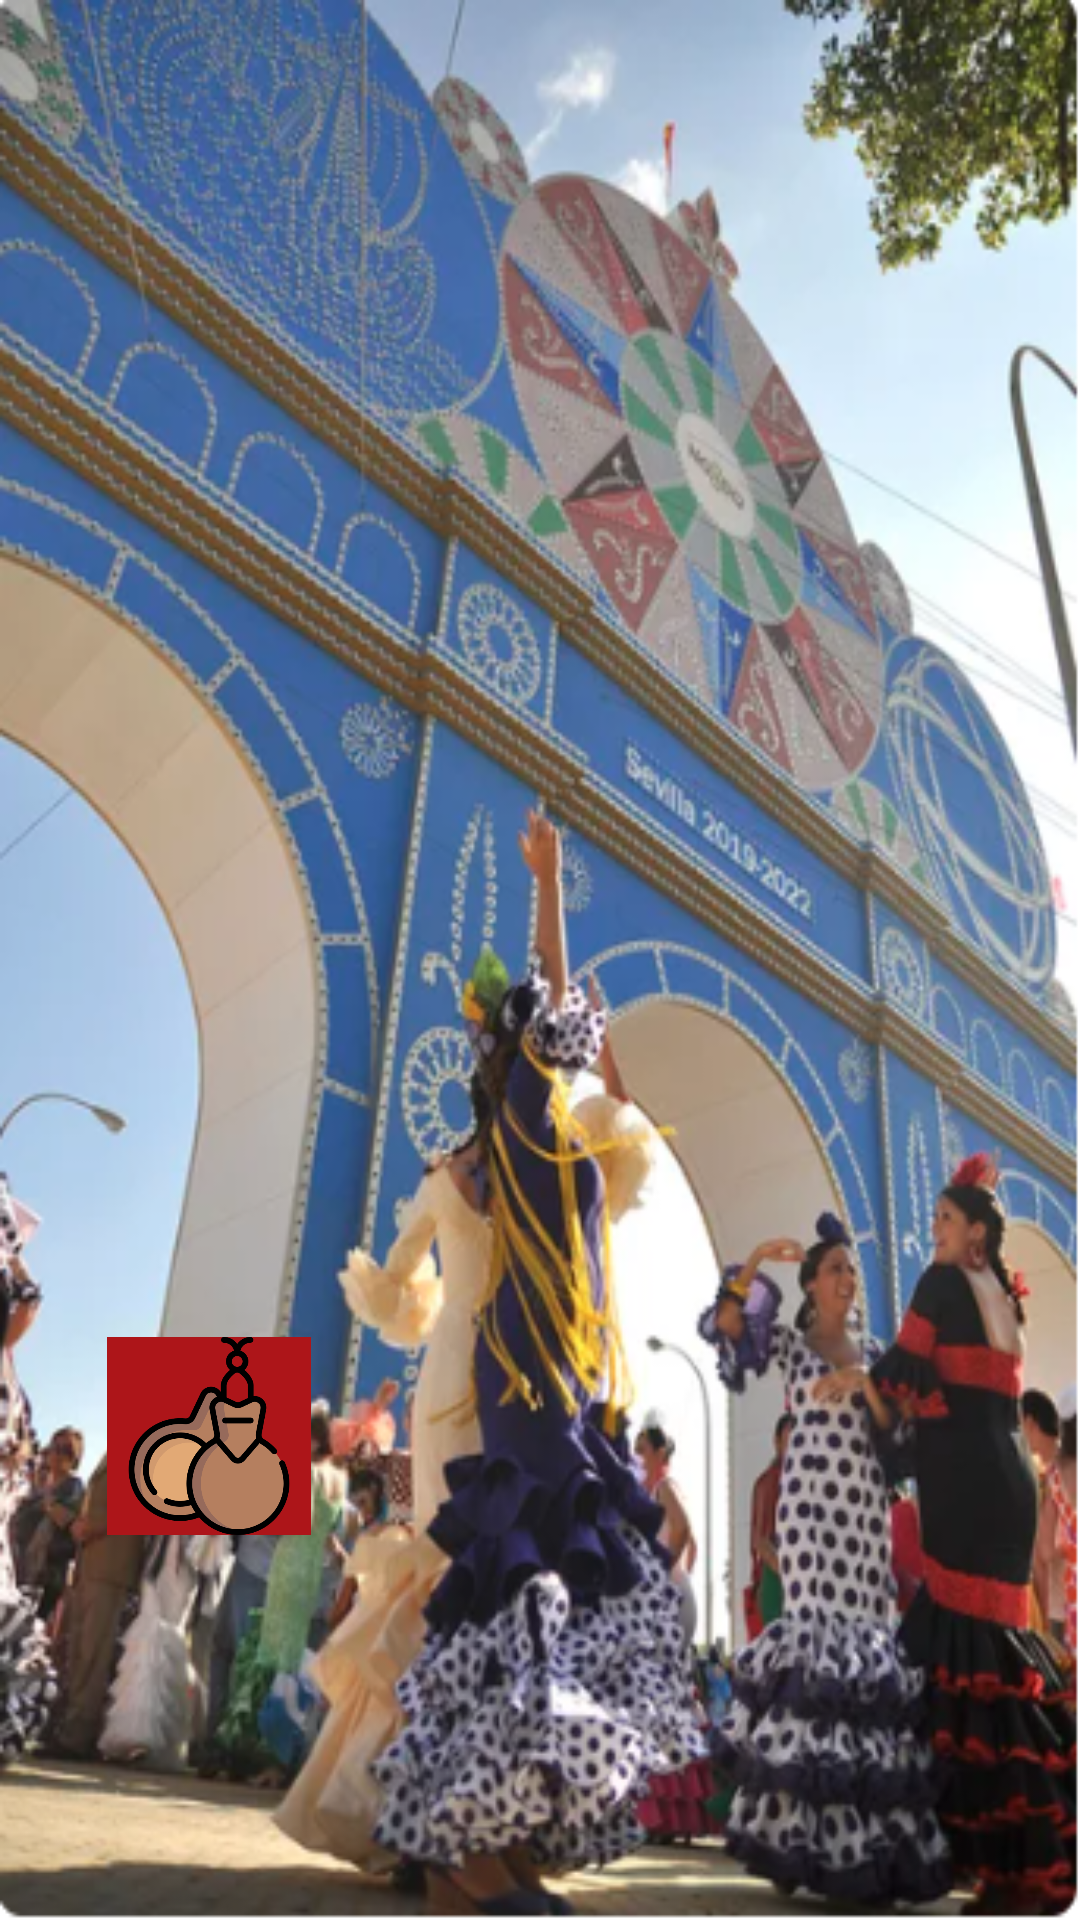

Icon click points for this 1080px×1920px phone screenshot, format [x,y]:
castanuelas: [209,1436]
